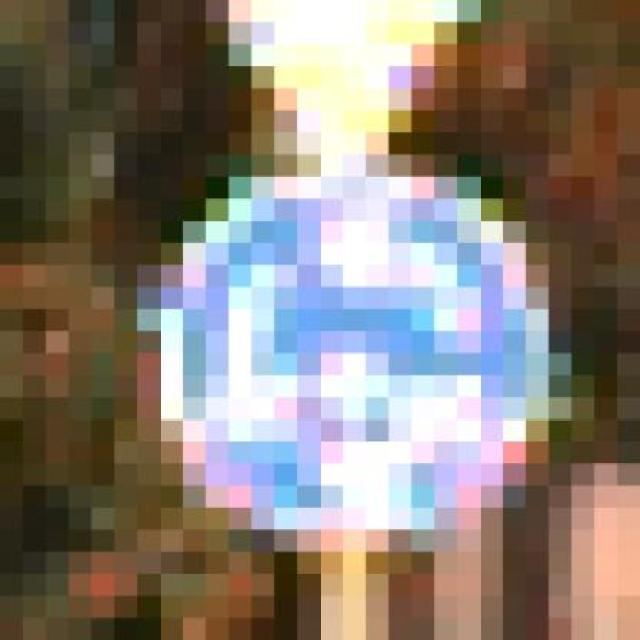Round-About: (137, 132, 594, 574)
